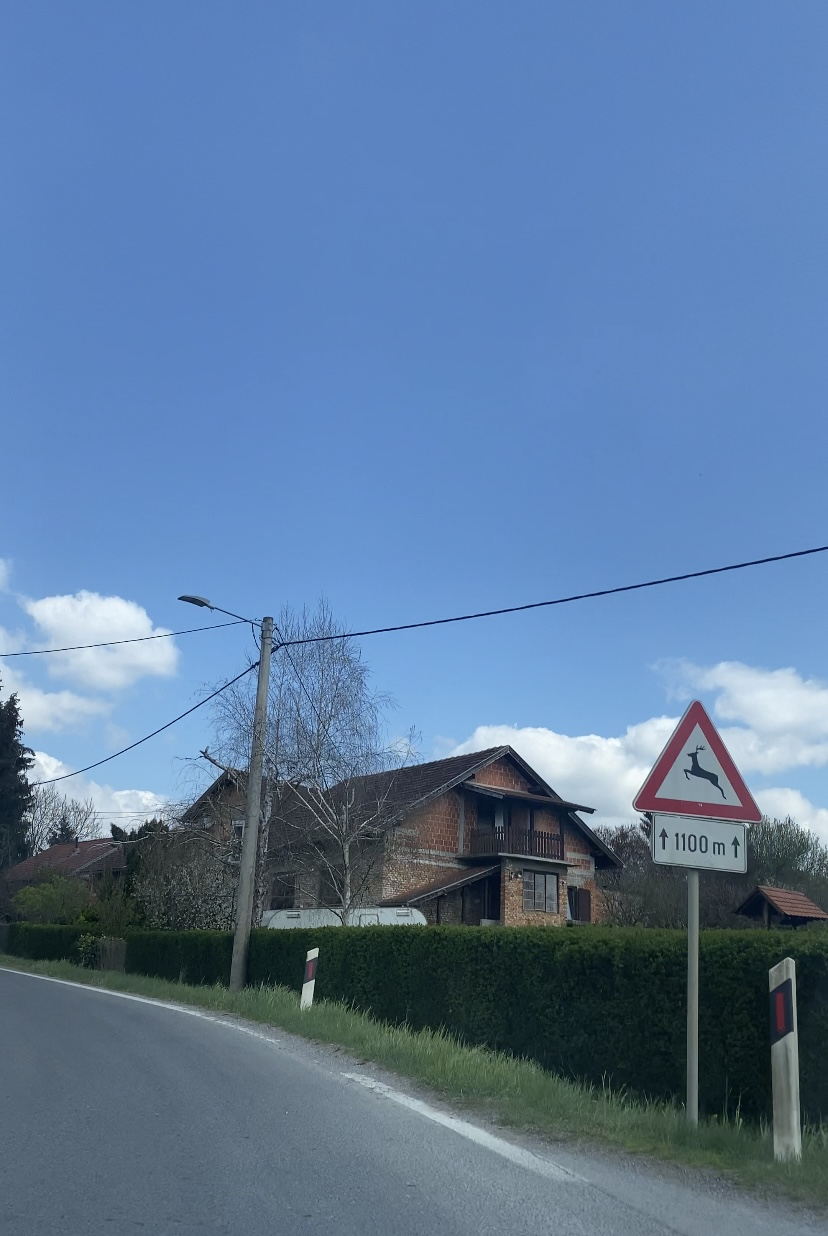Divljač na cesti: (633, 699, 764, 823)
